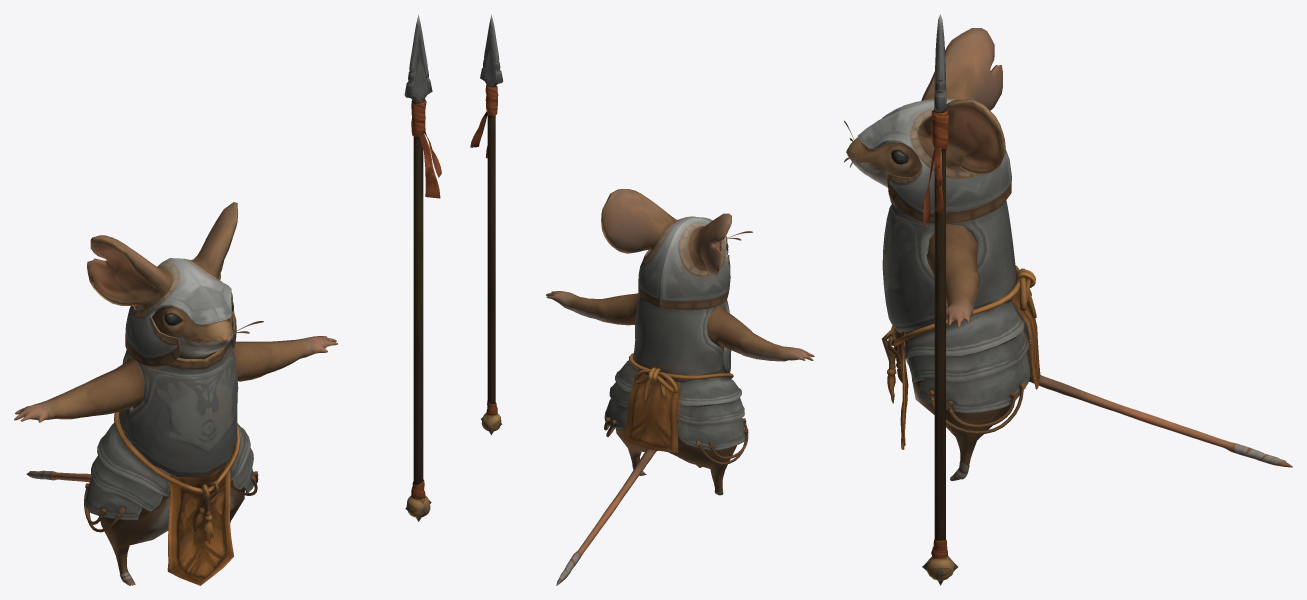
File: mouse_warrior.glb
The picture shows the model from 3 angles, left to right: view 1: azimuth 30°, elevation 25°; view 2: azimuth 150°, elevation 25°; view 3: azimuth 270°, elevation 25°; orthographic projection. The views are drawn at different scales.
Visible parts, largest first — view 1: body_low, chest_armor_front_low, spear_low, helmet_low, cloth_low, thigh_armor01_low, thigh_armor02_low, thigh_armor03_low, rope_low, spear_tassels_low; view 2: body_low, helmet_low, chest_armor_back_low, spear_low, cloth_low, thigh_armor03_low, thigh_armor01_low, thigh_armor02_low, rope_bow_low, thigh_armor_chains_low; view 3: body_low, helmet_low, spear_low, chest_armor_front_low, chest_armor_back_low, thigh_armor01_low, thigh_armor03_low, thigh_armor02_low, cloth_low, thigh_armor_chains_low, spear_tassels_low, rope_low (+1 smaller).
Part boxes in pixels (<box>): body_low: <box>14,202,337,585</box>; chest_armor_front_low: <box>126,342,238,477</box>; spear_low: <box>404,14,432,521</box>; helmet_low: <box>125,258,236,366</box>; cloth_low: <box>167,459,233,585</box>; thigh_armor01_low: <box>97,422,250,496</box>; thigh_armor02_low: <box>91,448,253,511</box>; thigh_armor03_low: <box>84,468,253,520</box>; rope_low: <box>114,412,240,494</box>; spear_tassels_low: <box>419,131,441,198</box>; body_low: <box>546,189,814,585</box>; helmet_low: <box>638,216,730,310</box>; chest_armor_back_low: <box>633,296,722,382</box>; spear_low: <box>480,14,503,435</box>; cloth_low: <box>623,374,702,467</box>; thigh_armor03_low: <box>604,399,745,450</box>; thigh_armor01_low: <box>615,360,741,406</box>; thigh_armor02_low: <box>609,382,744,425</box>; rope_bow_low: <box>633,367,677,401</box>; thigh_armor_chains_low: <box>604,422,748,464</box>; body_low: <box>846,28,1292,481</box>; helmet_low: <box>858,98,1011,223</box>; spear_low: <box>922,14,957,585</box>; chest_armor_front_low: <box>882,195,946,332</box>; chest_armor_back_low: <box>948,200,1016,309</box>; thigh_armor01_low: <box>904,301,1024,359</box>; thigh_armor03_low: <box>919,353,1030,413</box>; thigh_armor02_low: <box>907,321,1029,382</box>; cloth_low: <box>893,290,1040,449</box>; thigh_armor_chains_low: <box>930,388,1023,434</box>; spear_tassels_low: <box>923,147,943,226</box>; rope_low: <box>891,265,1019,345</box>.
Bounding box in the file's own units: 1.7 × 2 × 1.4.
3 materials, 3 textured.
